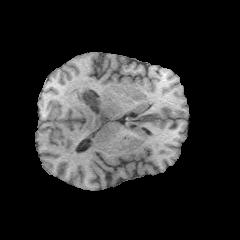glioma: (66, 78, 113, 136)
